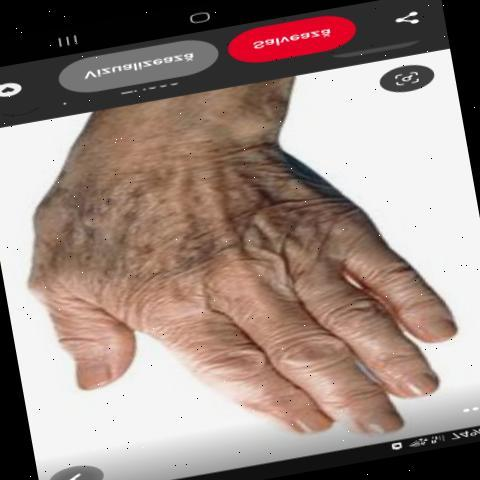Hands: (27, 82, 462, 468)
